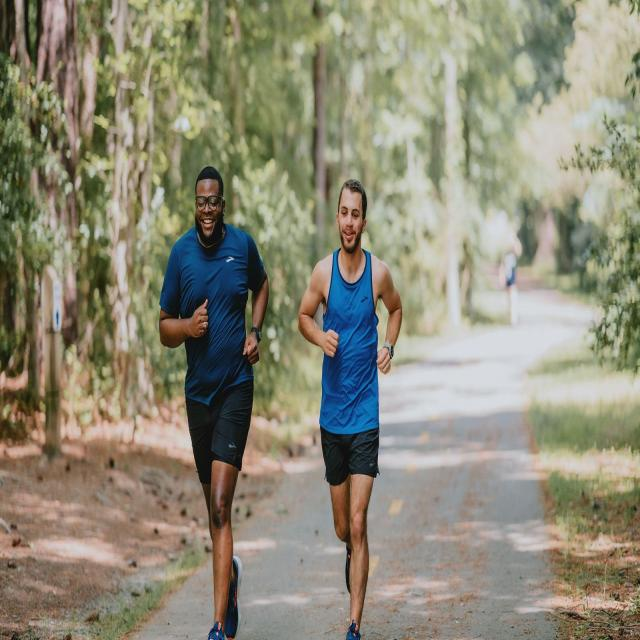Person: (158, 164, 269, 640), (299, 178, 402, 640)
